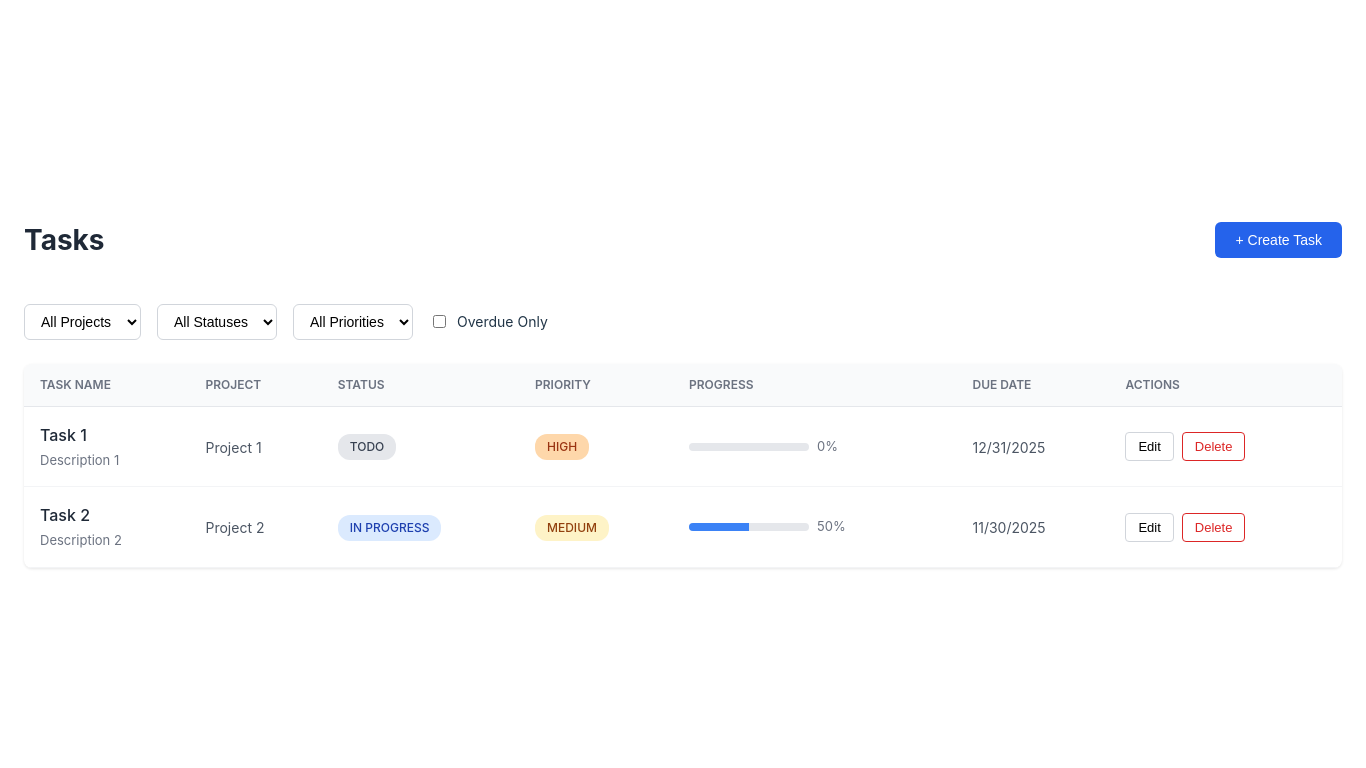
Test: TasksPage Integration Tests › Create Task Workflow › displays quota error when limit exceeded
Expected: the text "Task 1" is shown, [40, 425, 87, 445]
Click the button "+ Create Task".
click(1279, 240)  # box [1216, 222, 1342, 258]
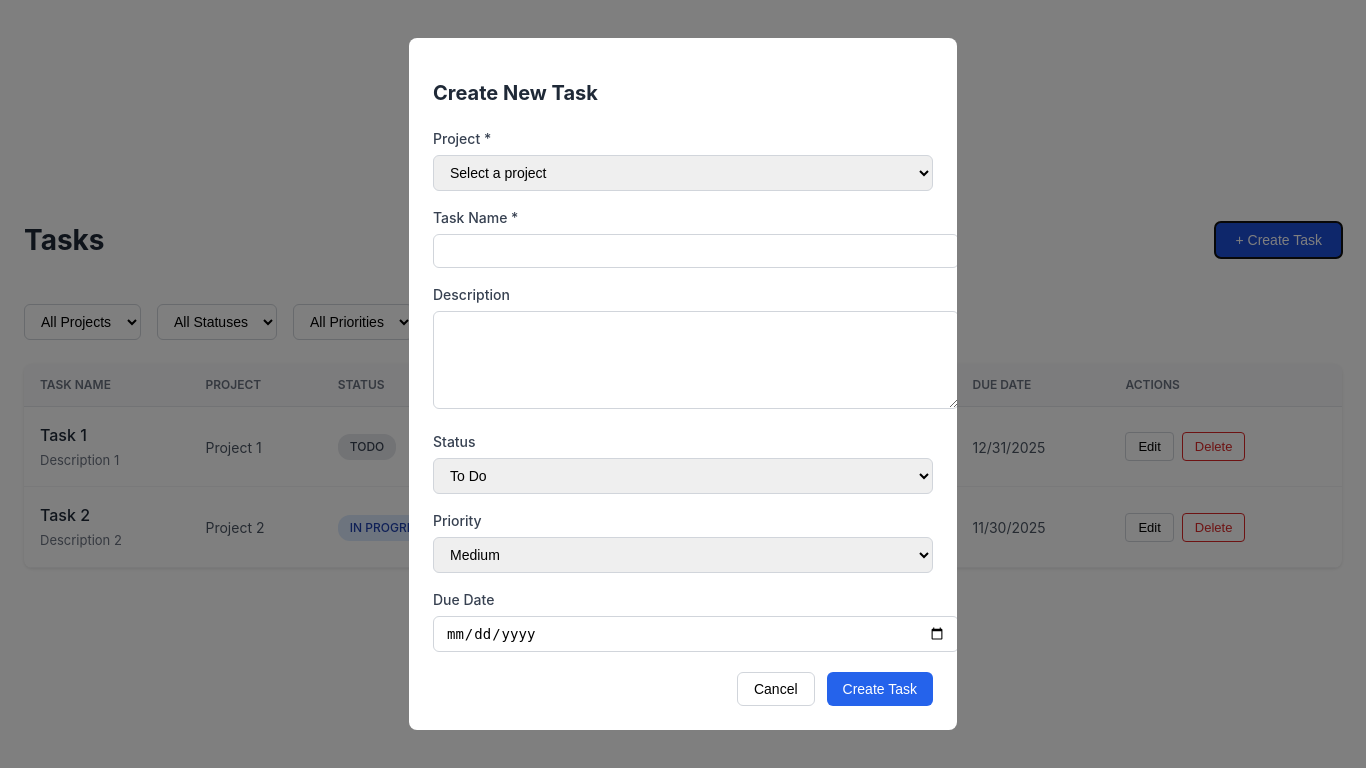
Expected: the dropdown labelled "Project *" is shown
Select "Project 1" in the dropdown labelled "Project *" at x=683, y=173, box [433, 155, 933, 191]
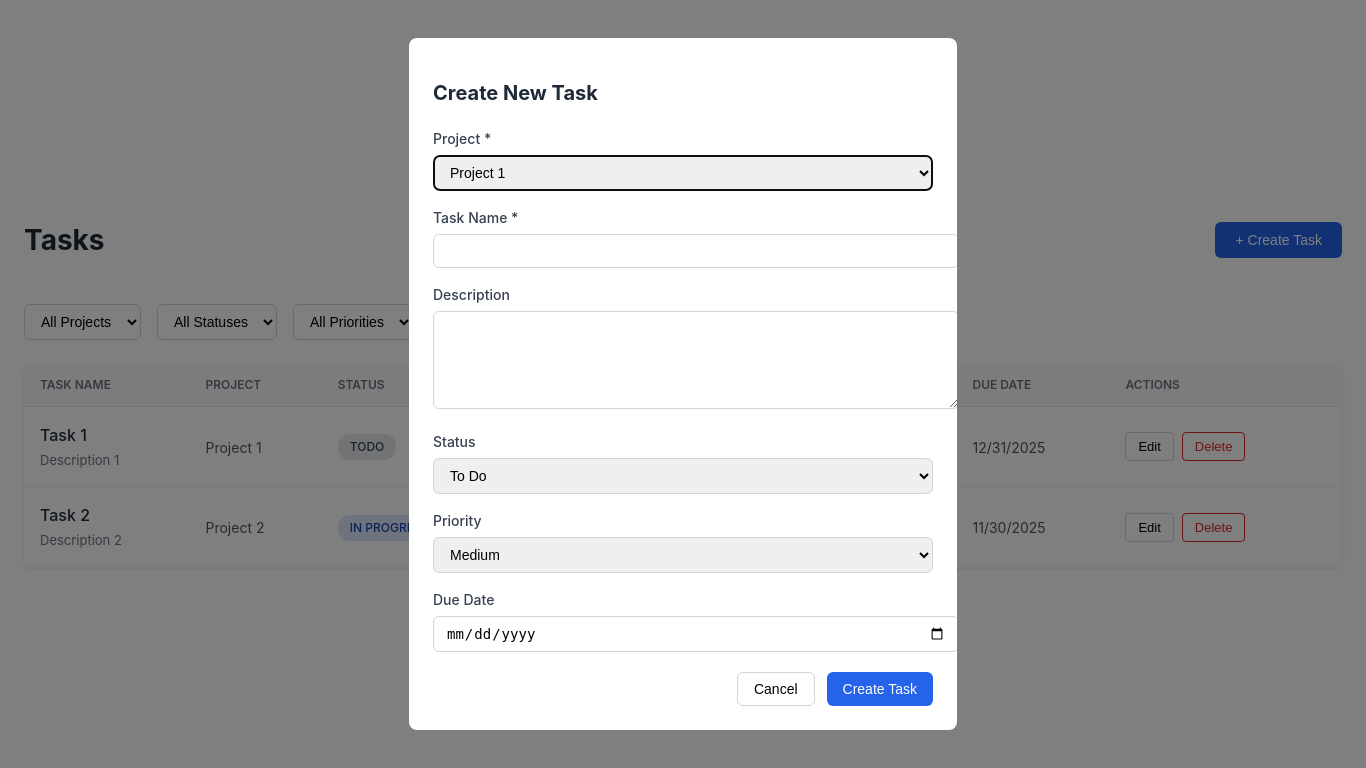
Type "New Task" into the field labelled "Task Name *".
click(696, 251); type("New Task")  # box [433, 234, 959, 268]
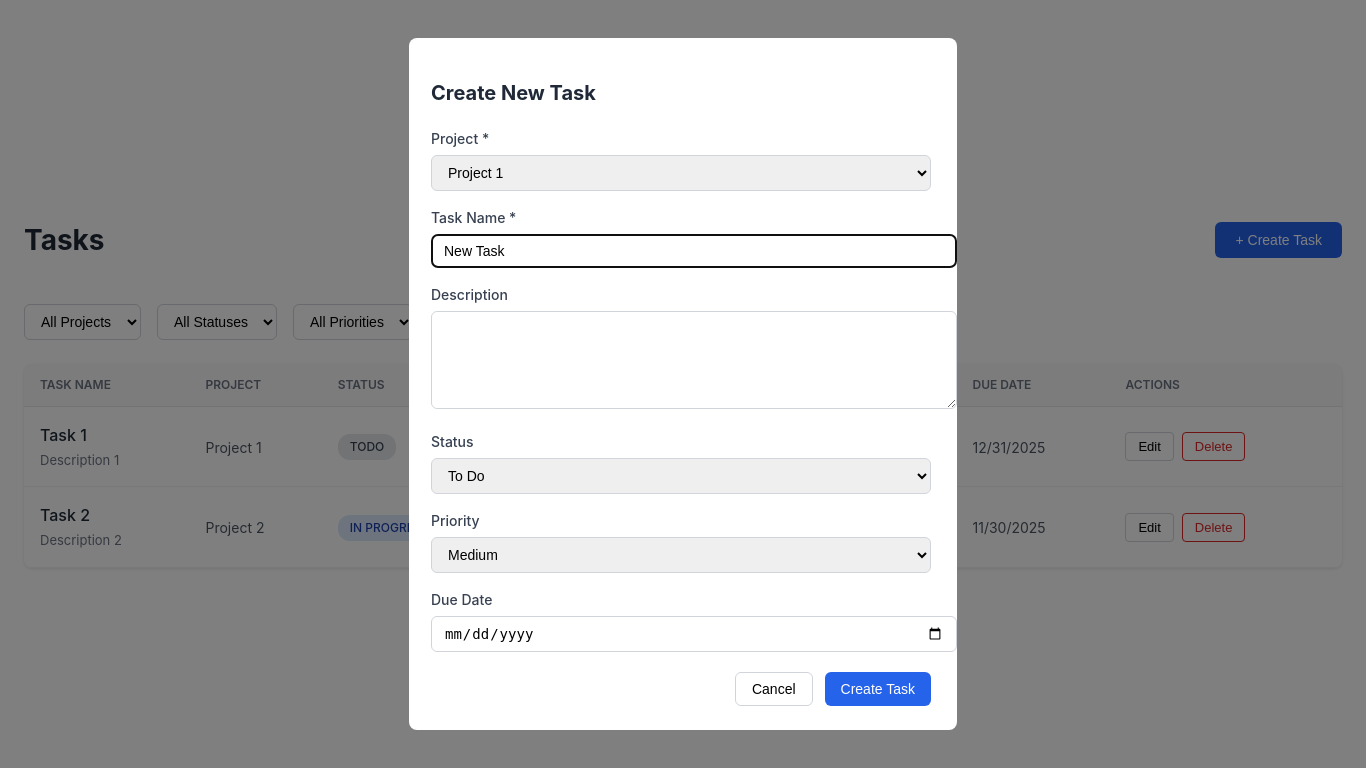
Click the button "Create Task".
click(878, 689)  # box [824, 672, 931, 706]
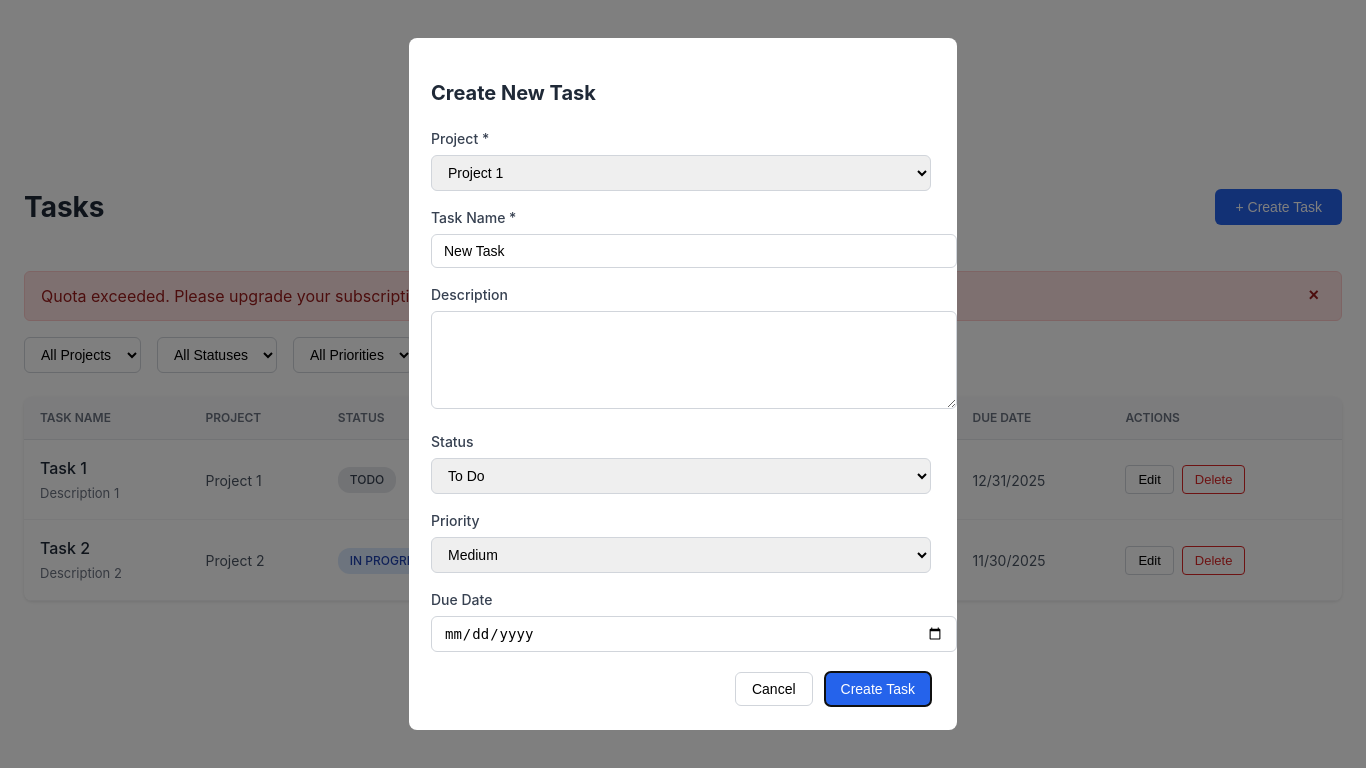
Expected: the text "Quota exceeded" is shown, [41, 286, 592, 306]
